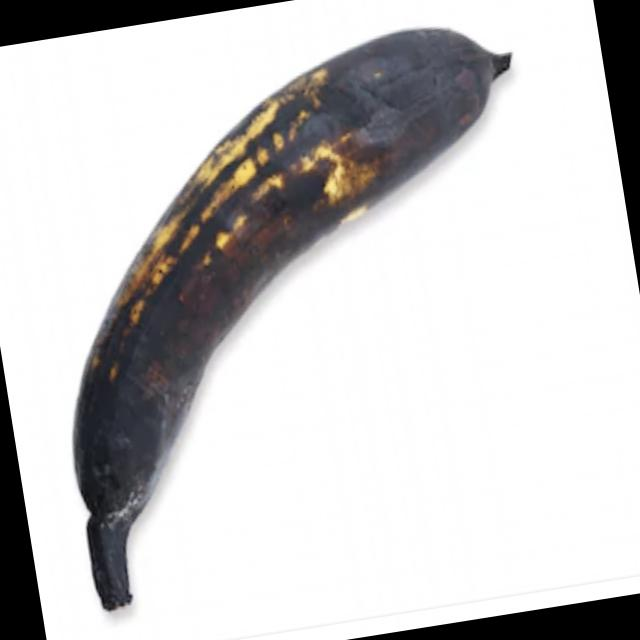rotten-banana: (3, 12, 599, 578)
